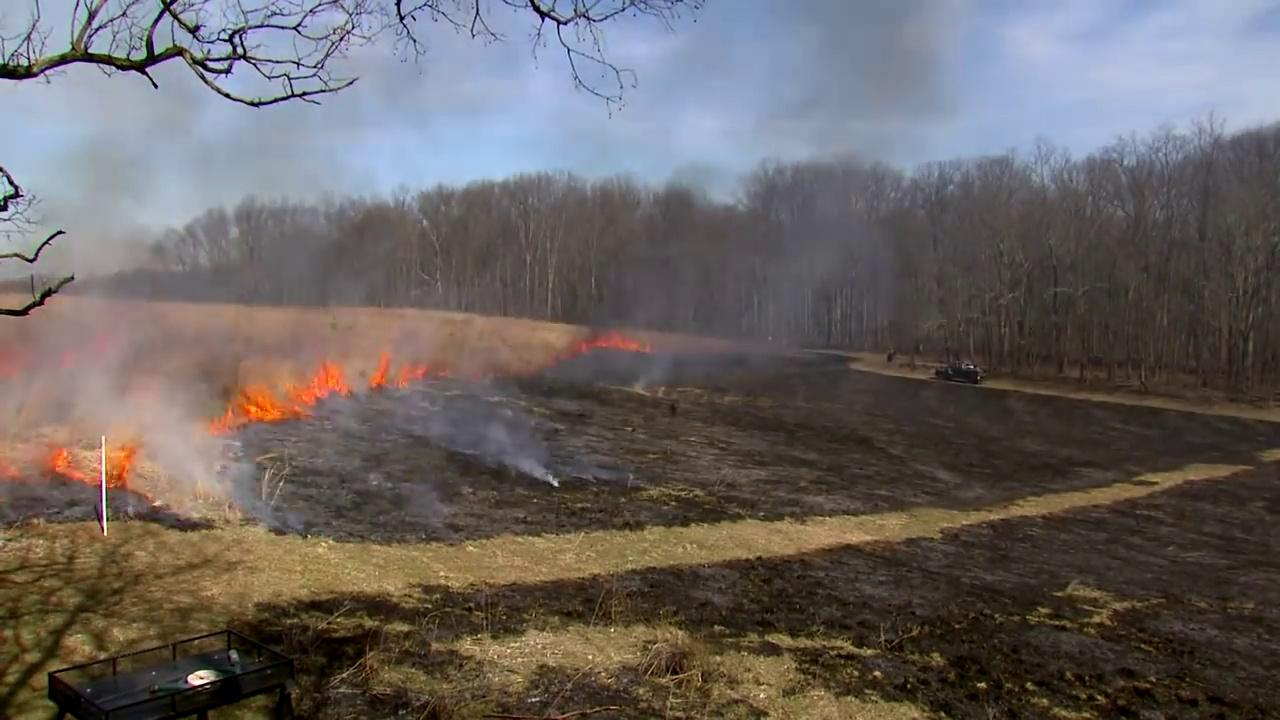Fire: (209, 362, 353, 429), (372, 356, 429, 389), (103, 441, 137, 488), (589, 328, 648, 355), (49, 451, 90, 483)
